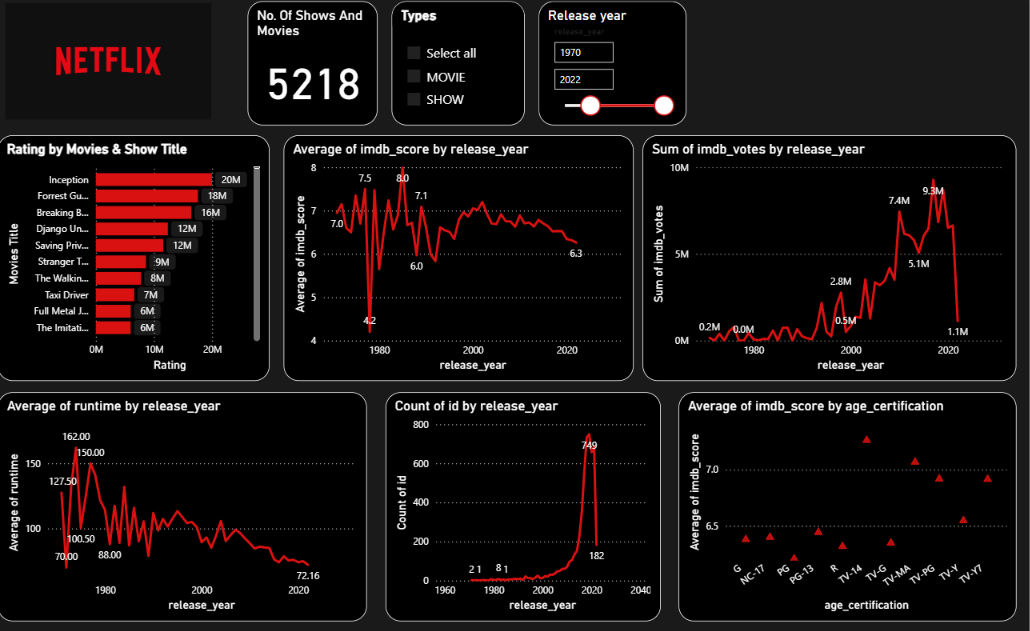

Layout of this report page (visuals, bound fields, positions):
{"tool":"powerbi","page":{"name":"Page 3","canvas":[1290,818],"ordinal":2},"visuals":[{"type":"barChart","title":"Rating  by Movies & Show Title","fields":{"Y":["Netflix TV Shows and Movies.Rating X Votes"],"Category":["Netflix TV Shows and Movies.title"]},"box":[0,170,340,307.1],"z":0},{"type":"slicer","title":"Types","fields":{"Values":["Netflix TV Shows and Movies.type"]},"box":[492.5,2.5,166.2,155],"z":1000},{"type":"slicer","title":"Release year ","fields":{"Values":["Netflix TV Shows and Movies.release_year"]},"box":[676.2,2.5,185,155],"z":2000},{"type":"card","title":"No. Of Shows And Movies ","fields":{"Values":["Count(Netflix TV Shows and Movies.title)"]},"box":[312.5,2.5,162.5,155],"z":3000},{"type":"lineChart","fields":{"Category":["Netflix TV Shows and Movies.release_year"],"Y":["Avg(Netflix TV Shows and Movies.imdb_score)"]},"box":[357.5,170,437.5,307.5],"z":4000},{"type":"lineChart","fields":{"Category":["Netflix TV Shows and Movies.release_year"],"Y":["Sum(Netflix TV Shows and Movies.imdb_votes)"]},"box":[806.2,170,467.5,307.5],"z":5000},{"type":"lineChart","fields":{"Category":["Netflix TV Shows and Movies.release_year"],"Y":["Avg(Netflix TV Shows and Movies.runtime)"]},"box":[0,491.2,461.2,286.2],"z":6000},{"type":"lineChart","fields":{"Y":["Count(Netflix TV Shows and Movies.id)"],"Category":["Netflix TV Shows and Movies.release_year"]},"box":[485,491.2,343.8,286.2],"z":7000},{"type":"scatterChart","fields":{"Y":["Avg(Netflix TV Shows and Movies.imdb_score)"],"X":["Netflix TV Shows and Movies.age_certification"]},"box":[851.2,491.2,422.5,286.2],"z":8000},{"type":"image","box":[0,0,277.5,155],"z":9000}]}

Visuals, with their boxes on the page's 1290x818 design canvas (x1, y1, x2, y2). These are canvas units, not pixel positions in the 1030x631 screenshot, which may show the page scaled, cropped or inside an application window:
"Rating  by Movies & Show Title" barChart: (left=0, top=170, right=340, bottom=477)
"Types" slicer: (left=492, top=2, right=659, bottom=158)
"Release year " slicer: (left=676, top=2, right=861, bottom=158)
"No. Of Shows And Movies " card: (left=312, top=2, right=475, bottom=158)
lineChart - Netflix TV Shows and Movies.release_year x Avg(Netflix TV Shows and Movies.imdb_score): (left=358, top=170, right=795, bottom=478)
lineChart - Netflix TV Shows and Movies.release_year x Sum(Netflix TV Shows and Movies.imdb_votes): (left=806, top=170, right=1274, bottom=478)
lineChart - Netflix TV Shows and Movies.release_year x Avg(Netflix TV Shows and Movies.runtime): (left=0, top=491, right=461, bottom=777)
lineChart - Count(Netflix TV Shows and Movies.id) x Netflix TV Shows and Movies.release_year: (left=485, top=491, right=829, bottom=777)
scatterChart - Avg(Netflix TV Shows and Movies.imdb_score) x Netflix TV Shows and Movies.age_certification: (left=851, top=491, right=1274, bottom=777)
image: (left=0, top=0, right=278, bottom=155)
